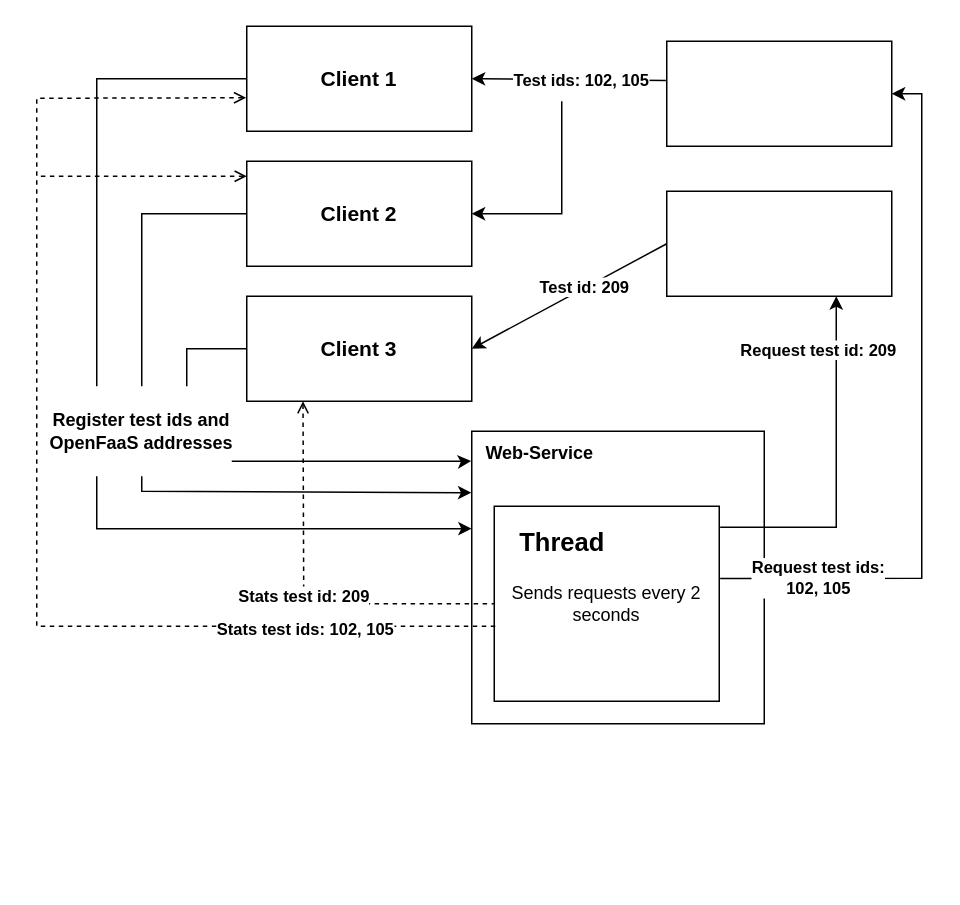
The diagram is 960 pixels wide and 905 high, and some of its shapes have lost their labels. Here are the shapes that lost their labels. From the top down, the box of each, then its label:
(665, 40, 892, 146): OpenFaaS A
(665, 190, 892, 296): OpenFaaS B
